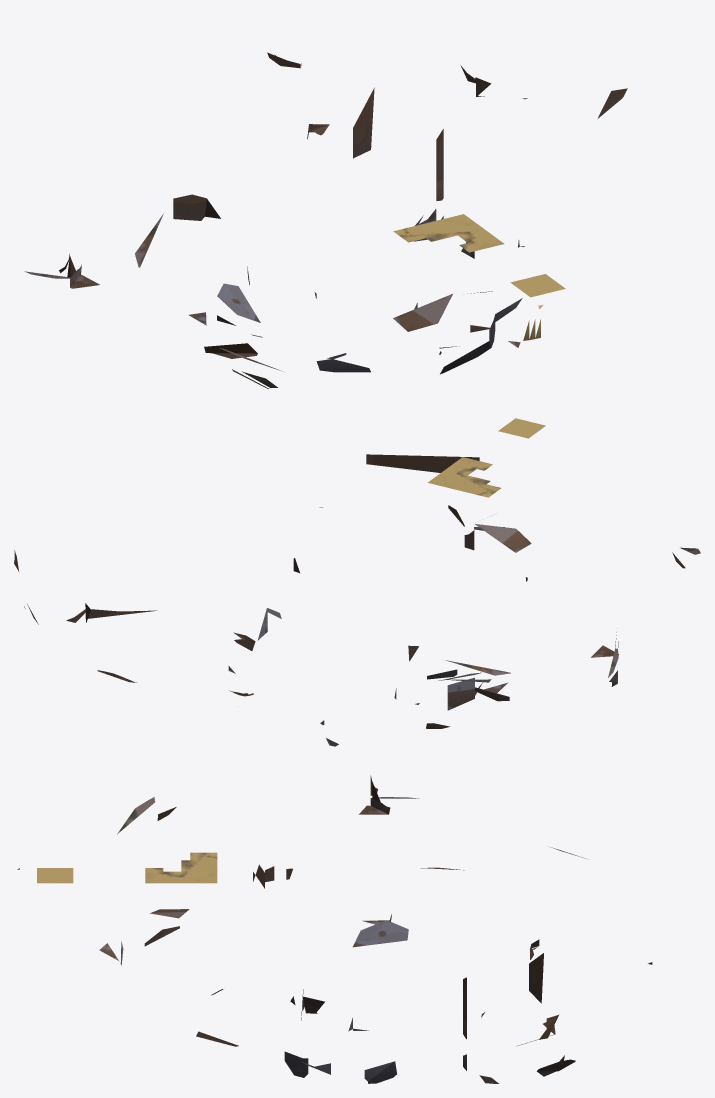
3 renders of one model, top to bottom at view 1: azimuth 30°, elevation 25°; view 2: azimuth 150°, elevation 25°; view 3: azimuth 270°, elevation 25°, orthographic. The views are drawn at different scales.
Visible parts, largest first — view 1: Grass_-1_-3_0, Columns_-1_-3_-1_001_011, Dirt_-2_1_-1_000, Dirt_1_2_-1_000_011, Columns_-2_0_-2_001, Grass_-1_-5_0_110, Dirt_-4_-3_-1_001; view 2: Grass_-1_-3_0, Dirt_1_-4_-1_001_000, Columns_-1_-3_-1_001_011, Columns_-2_0_-2_001, Grass_-1_-5_0_110; view 3: Grass_-1_-3_0, Columns_-2_0_-2_001, Grass_-1_-5_0_110, Columns_1_-1_-2_000, Dirt_1_2_-1_000_011, Columns_0_0_-2_101.
Boxes of the visible parts, x1=… form: Grass_-1_-3_0: x1=393, y1=214, x2=504, y2=252; Columns_-1_-3_-1_001_011: x1=393, y1=294, x2=452, y2=331; Dirt_-2_1_-1_000: x1=173, y1=194, x2=220, y2=220; Dirt_1_2_-1_000_011: x1=353, y1=87, x2=374, y2=158; Columns_-2_0_-2_001: x1=217, y1=283, x2=260, y2=322; Grass_-1_-5_0_110: x1=510, y1=274, x2=565, y2=297; Dirt_-4_-3_-1_001: x1=204, y1=343, x2=257, y2=358; Grass_-1_-3_0: x1=428, y1=457, x2=501, y2=497; Dirt_1_-4_-1_001_000: x1=366, y1=454, x2=479, y2=472; Columns_-1_-3_-1_001_011: x1=475, y1=524, x2=531, y2=552; Columns_-2_0_-2_001: x1=438, y1=672, x2=481, y2=710; Grass_-1_-5_0_110: x1=498, y1=418, x2=545, y2=438; Grass_-1_-3_0: x1=145, y1=852, x2=217, y2=883; Columns_-2_0_-2_001: x1=353, y1=920, x2=408, y2=947; Grass_-1_-5_0_110: x1=37, y1=868, x2=73, y2=883; Columns_1_-1_-2_000: x1=284, y1=1051, x2=330, y2=1077; Dirt_1_2_-1_000_011: x1=529, y1=953, x2=543, y2=1003; Columns_0_0_-2_101: x1=364, y1=1061, x2=396, y2=1083.
Size of the model in its own units: 576 by 177 by 610.
62 materials, 62 textured.
